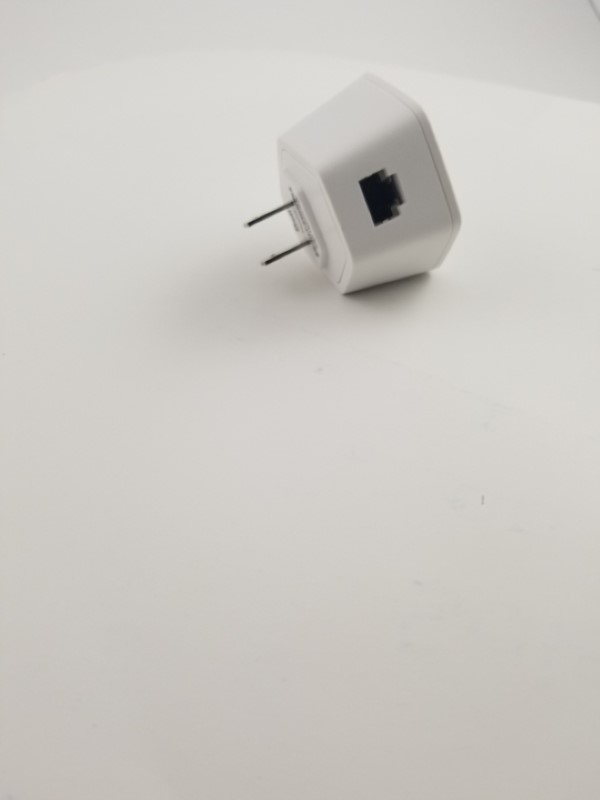pod: (228, 55, 471, 309)
